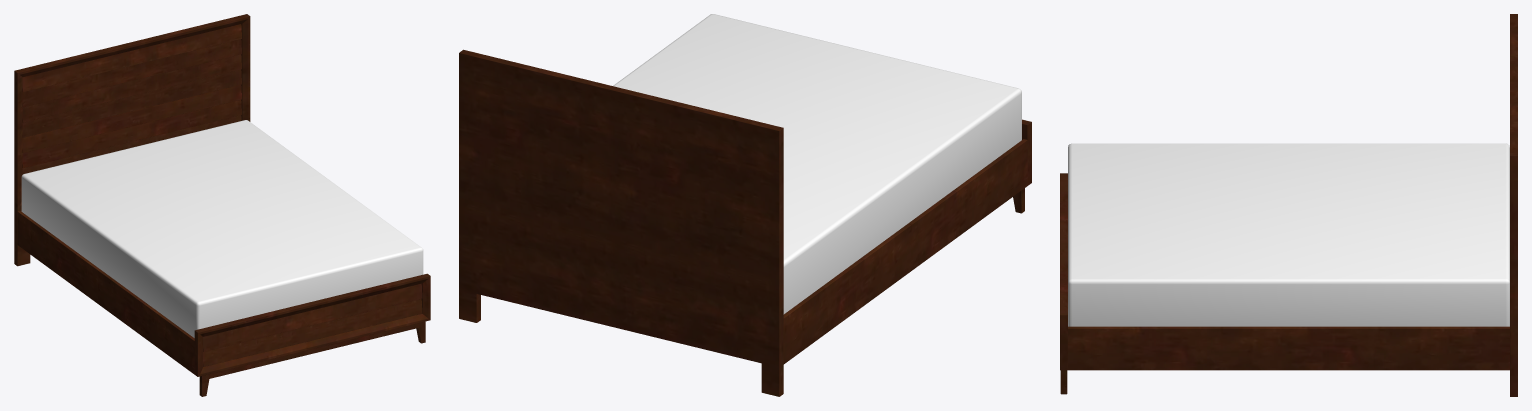
File: abo-B072PWGSZL.glb
3 renders of one model, left to right at view 1: azimuth 30°, elevation 25°; view 2: azimuth 150°, elevation 25°; view 3: azimuth 270°, elevation 25°, orthographic. The views are drawn at different scales.
Bounding box in the file's own units: 1.6 × 1.27 × 2.18.
1 material, 1 textured.
